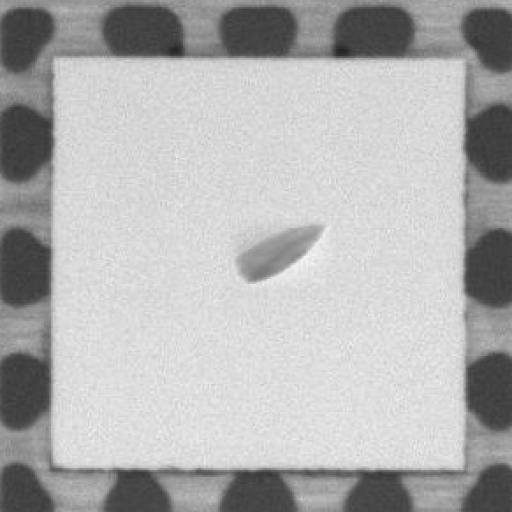DIE_INK: (219, 214, 335, 288)
